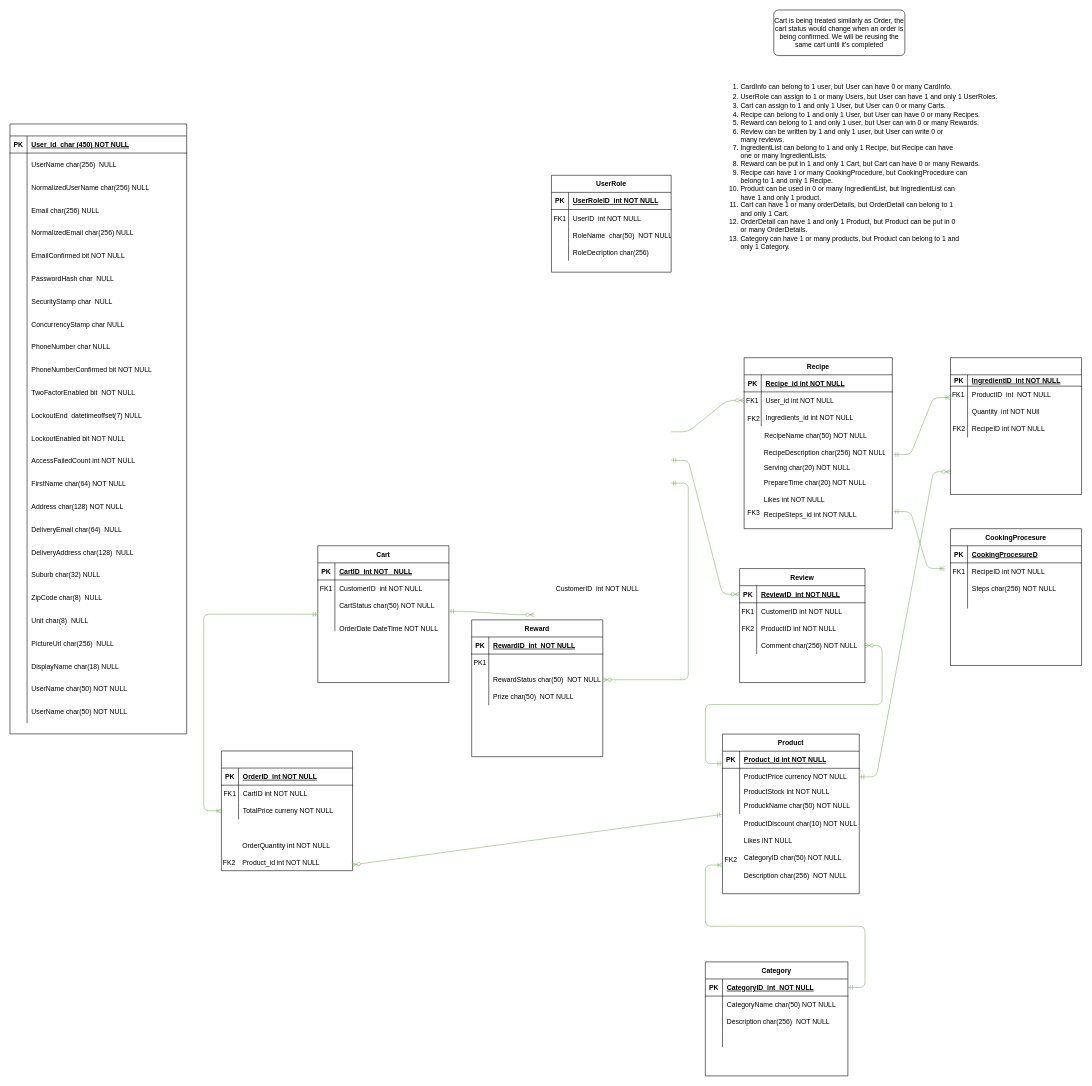
This 1092x1086 diagram has some shape labels left out. Each missing label, with the box of its shape:
IngredientList: (950, 357, 1082, 494)
OrderDetails: (221, 750, 353, 871)
Users: (9, 123, 187, 734)
